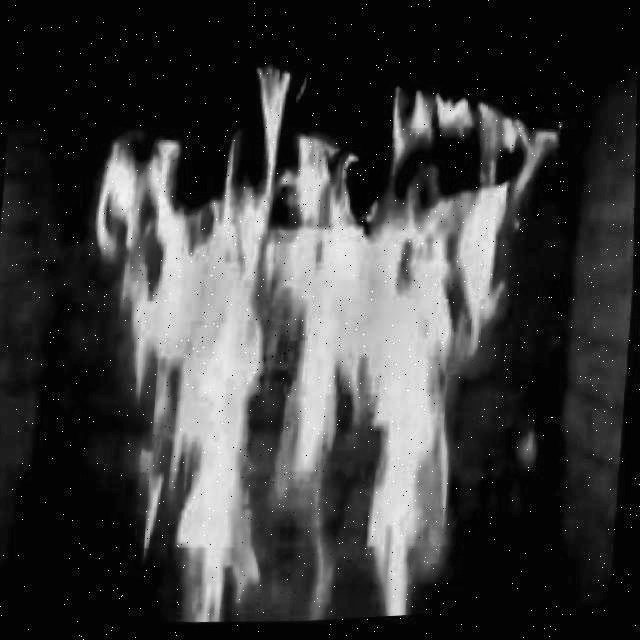Fire: (53, 29, 586, 637)
